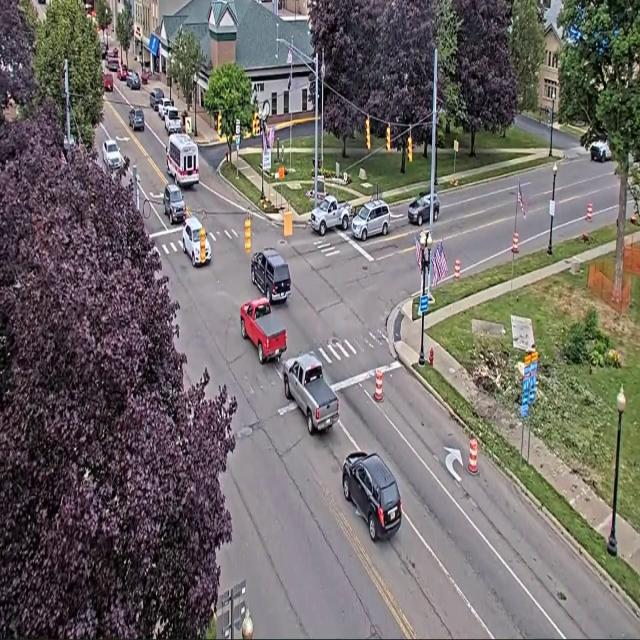car: (342, 452, 402, 541), (251, 248, 290, 303), (351, 200, 390, 241), (182, 215, 212, 267), (163, 184, 186, 224), (102, 140, 122, 169), (590, 140, 612, 162), (164, 107, 181, 134), (129, 107, 144, 131), (157, 97, 173, 119), (150, 88, 164, 111), (126, 72, 141, 89), (140, 68, 152, 85), (103, 72, 113, 92), (107, 56, 119, 72), (117, 64, 128, 80), (433, 193, 439, 221), (101, 43, 108, 59), (110, 47, 118, 56)
traffic signal: (200, 228, 206, 264), (365, 116, 371, 150), (245, 215, 250, 253), (252, 112, 259, 136), (407, 133, 412, 162), (217, 112, 221, 137), (386, 126, 390, 151)
truck: (283, 353, 338, 435), (240, 298, 286, 364), (310, 195, 351, 236)
